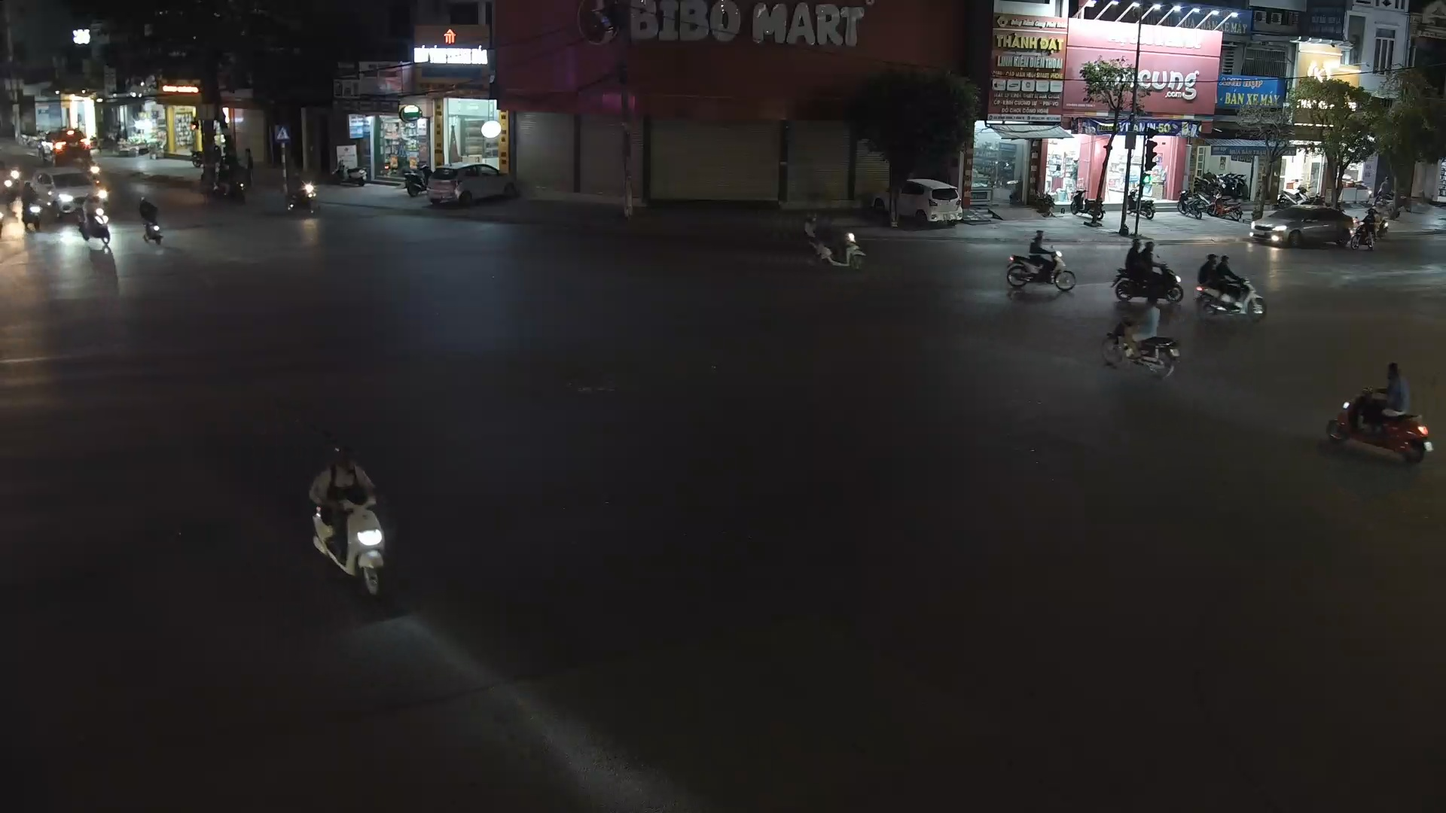car: (24, 167, 90, 225)
motorbike: (304, 440, 392, 599), (1320, 359, 1435, 466), (1101, 291, 1184, 380), (1191, 251, 1269, 325), (1109, 234, 1186, 308), (1002, 229, 1078, 298), (803, 222, 869, 271), (81, 197, 114, 252), (139, 194, 164, 247), (22, 192, 42, 232)
